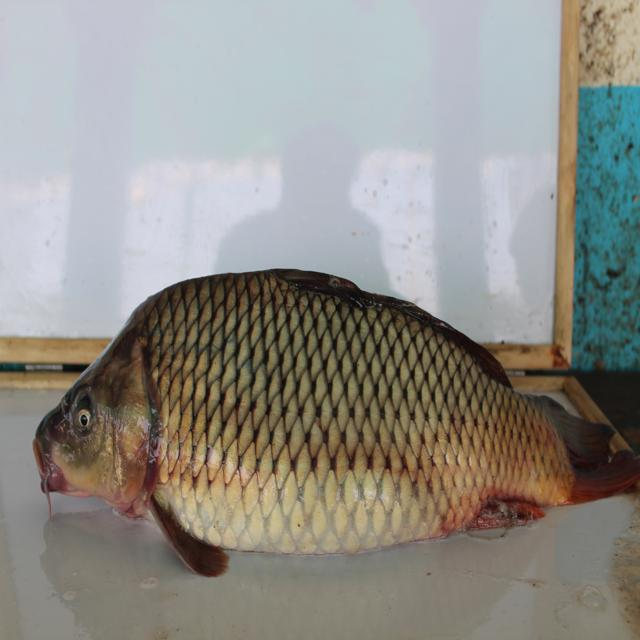CommonCarp: (31, 262, 640, 573)
